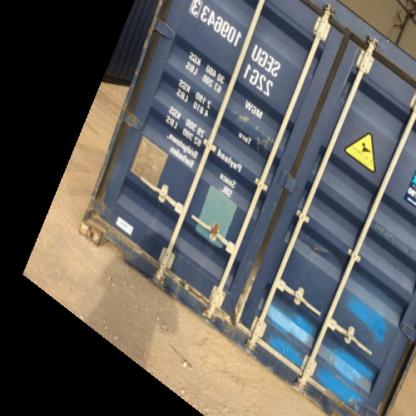Damage: (218, 239, 273, 336), (302, 369, 415, 405), (134, 259, 215, 309), (90, 217, 162, 273)
